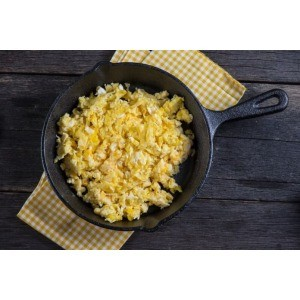egg_brain food: (67, 87, 183, 215)
